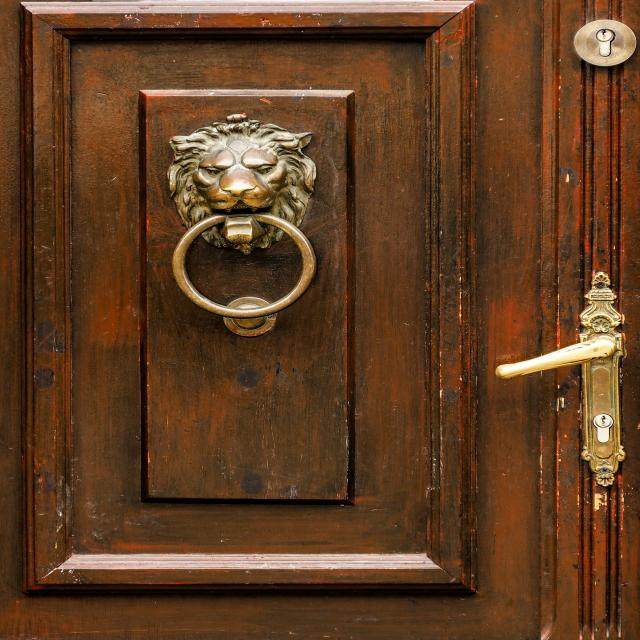door-handle: (496, 337, 620, 380)
